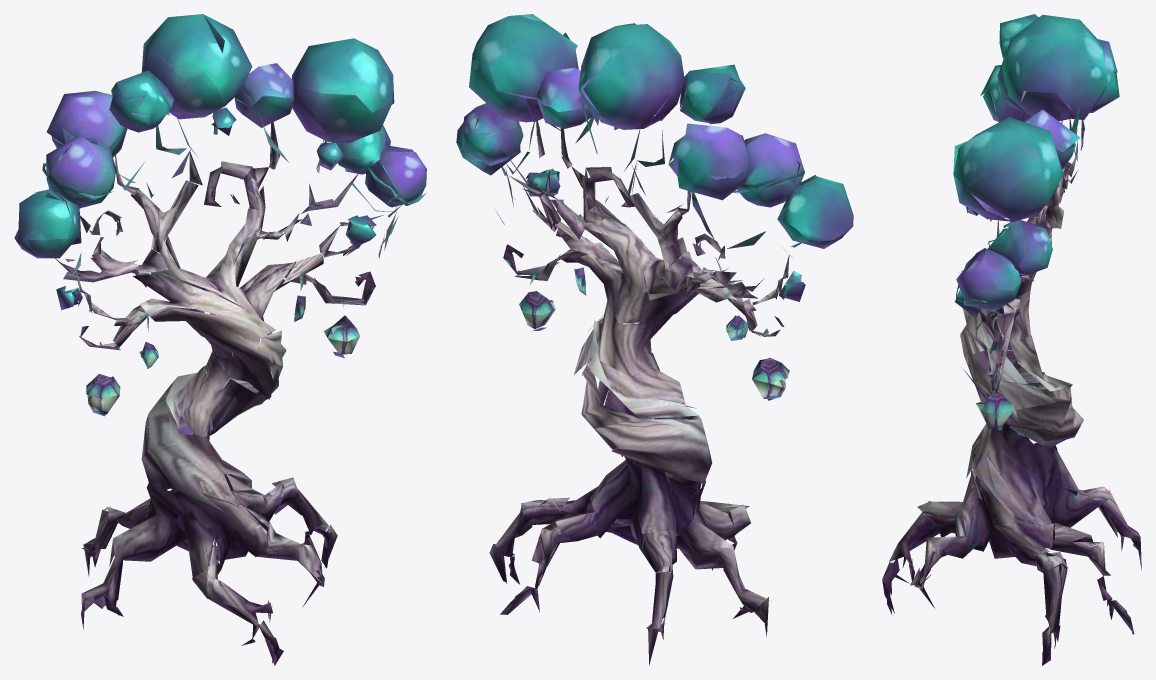
Rendered from p_dream_tree_a_lo.glb.
The picture shows the model from 3 angles, left to right: view 1: azimuth 30°, elevation 25°; view 2: azimuth 150°, elevation 25°; view 3: azimuth 270°, elevation 25°; orthographic projection. The views are drawn at different scales.
Parts seen in each view (by area): view 1: Mesh_0; view 2: Mesh_0; view 3: Mesh_0.
Part boxes in pixels (bbox=[...]): Mesh_0: bbox=[14, 14, 426, 665]; Mesh_0: bbox=[456, 14, 853, 665]; Mesh_0: bbox=[882, 14, 1141, 665].
Size of the model in its own units: 0.6932 by 0.994 by 0.3928.
Materials: 1 (1 with a texture image).
